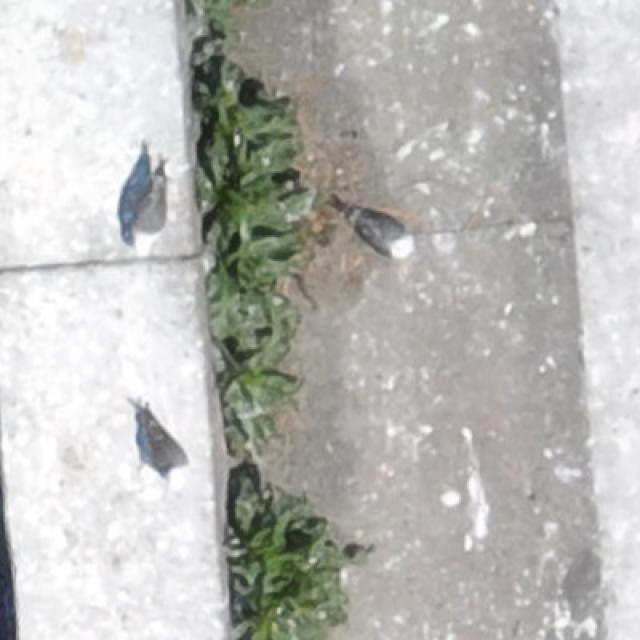umineko: (140, 417, 190, 488), (130, 173, 168, 255), (358, 217, 411, 255)
